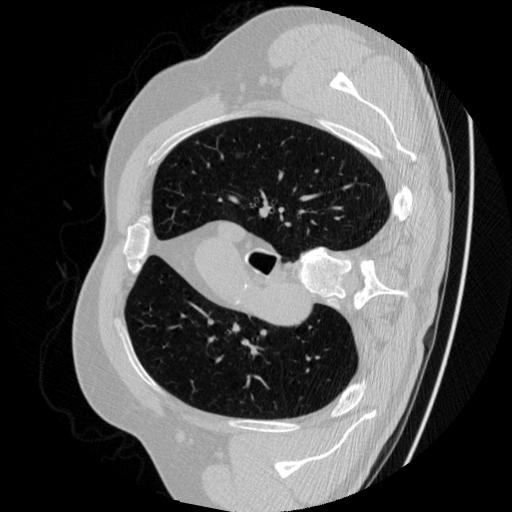nodule: (233, 147, 247, 161)
